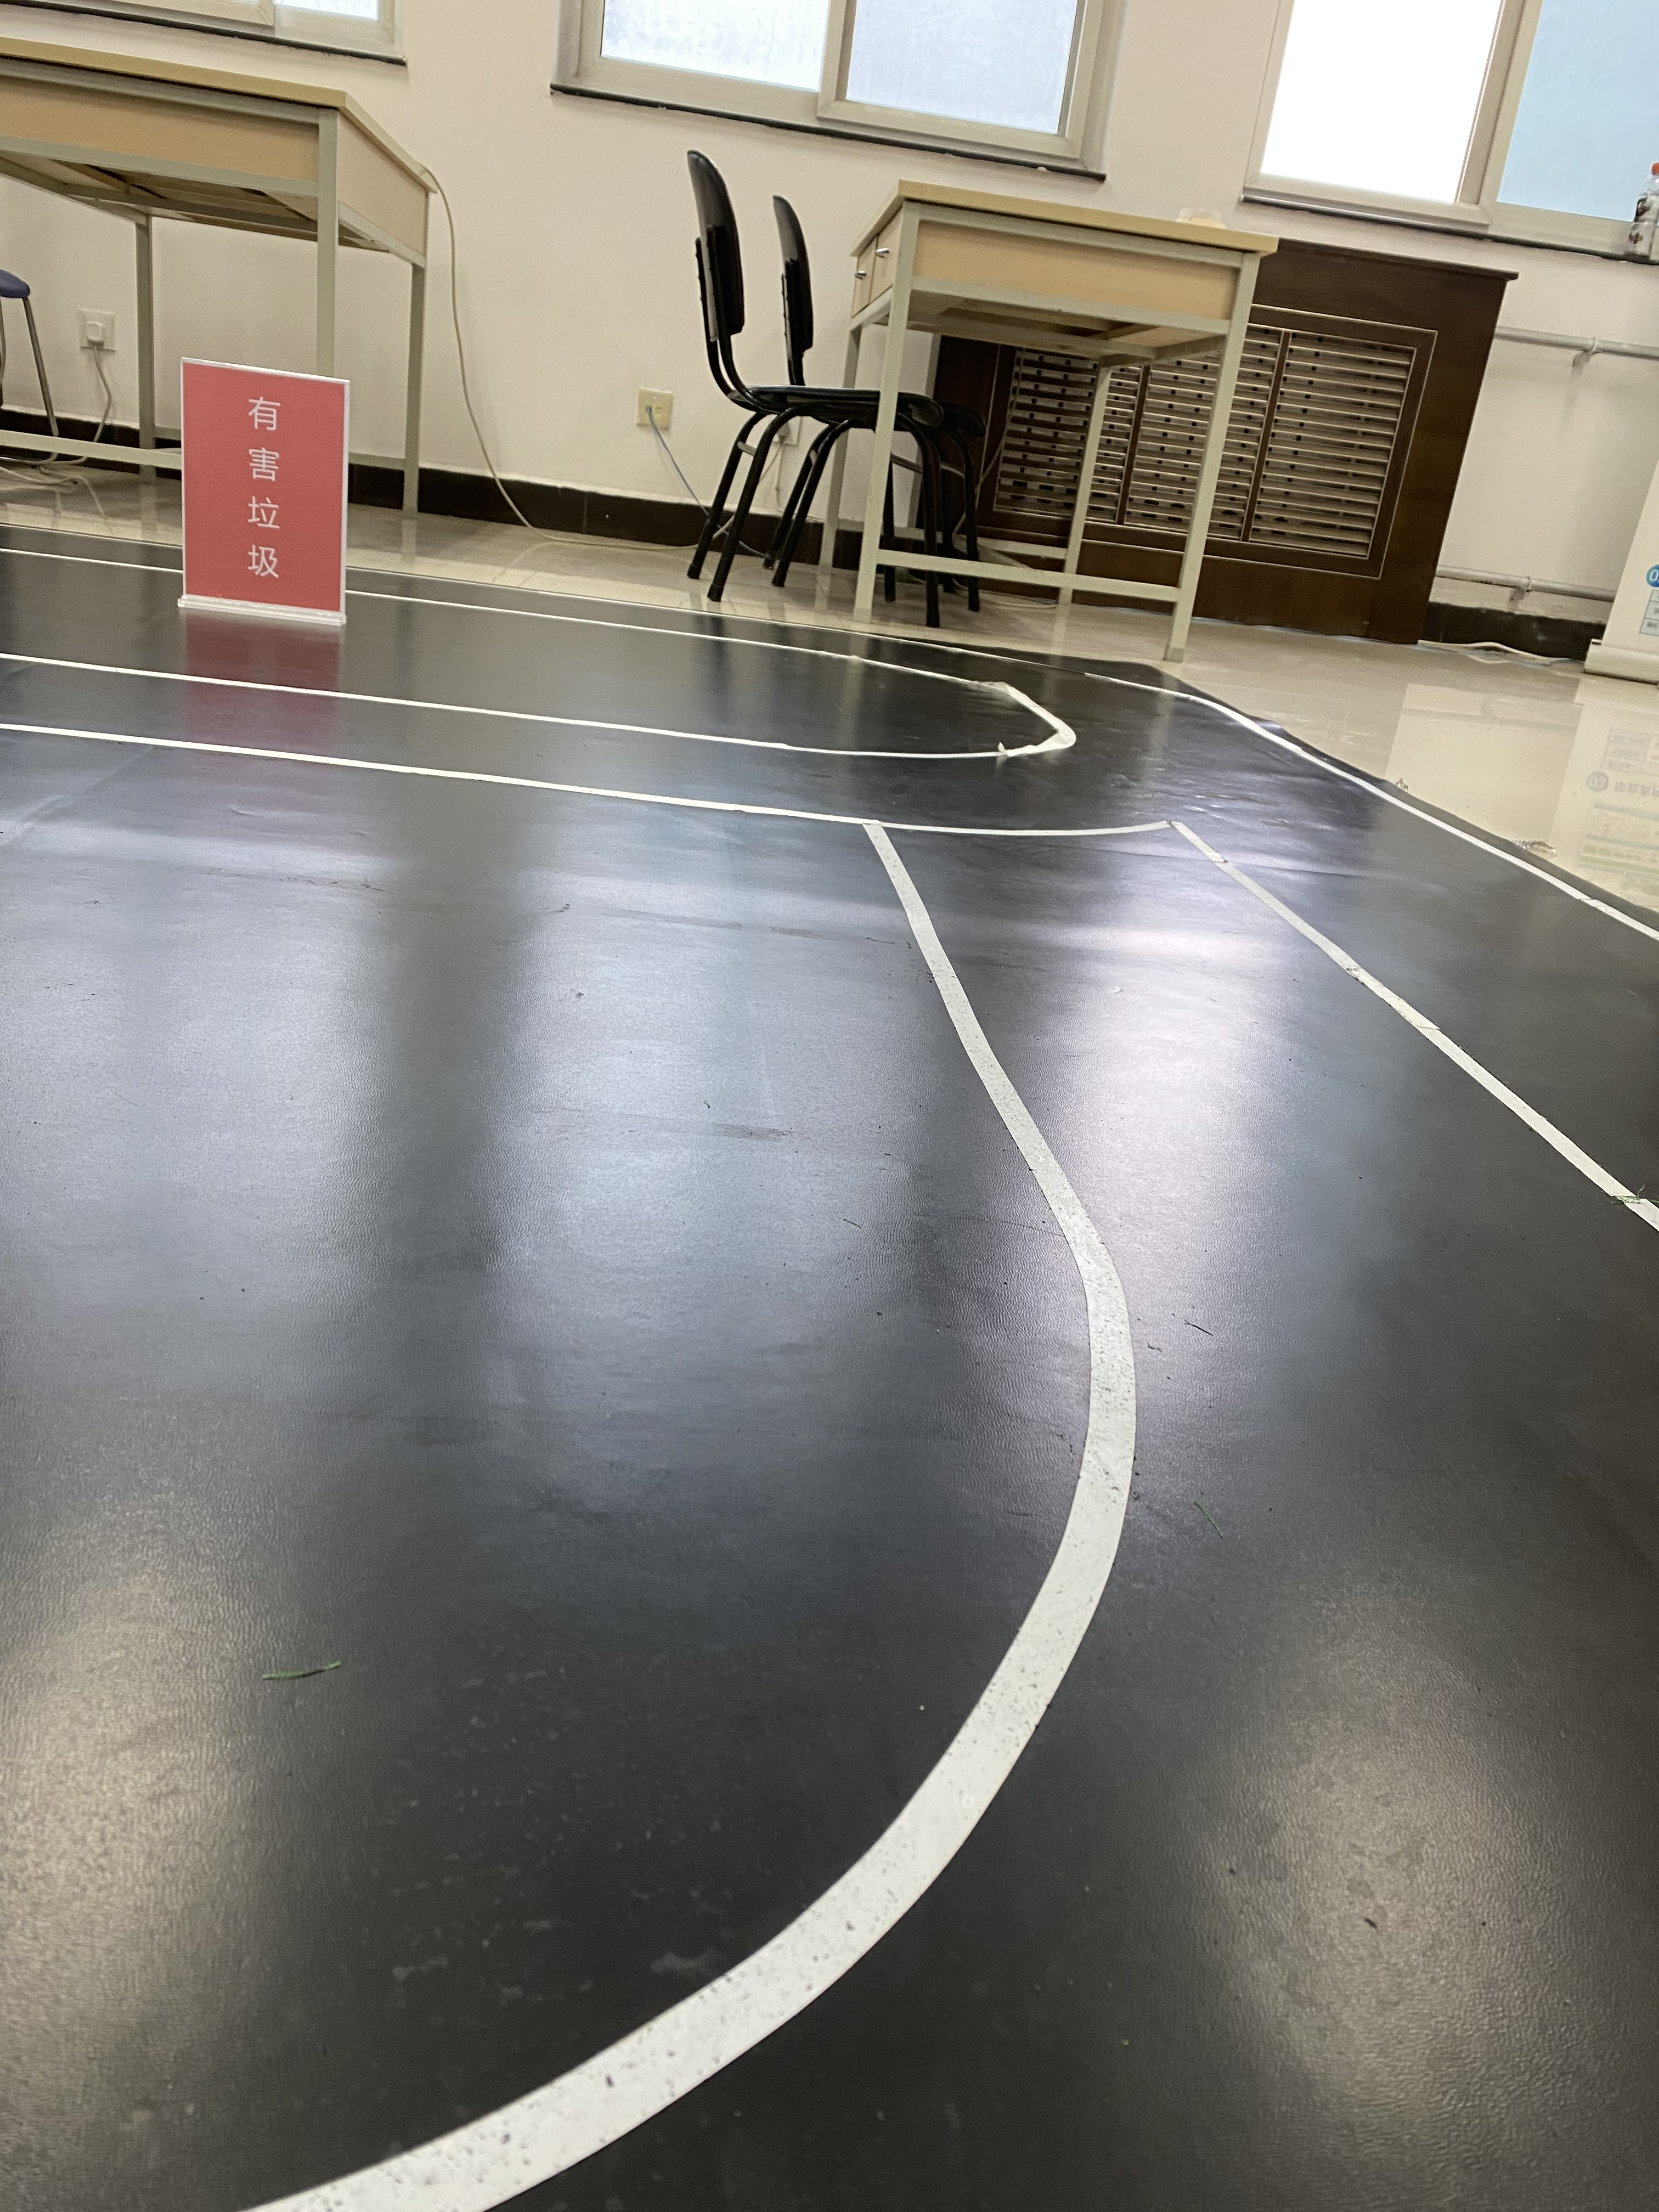green: (173, 378, 345, 624)
